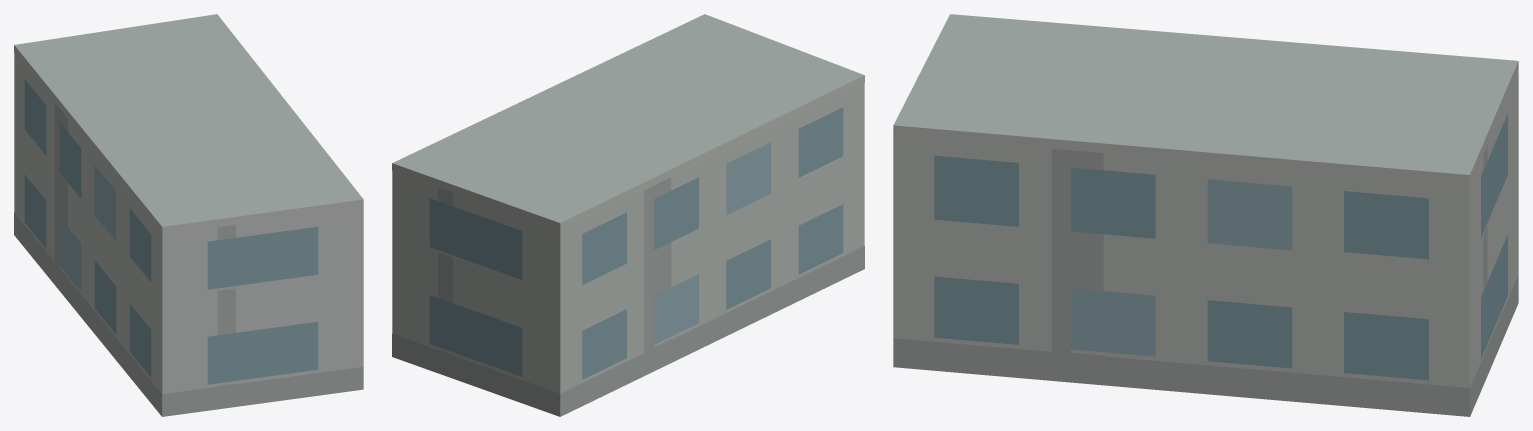
Rendered from survey-upis-32838685.glb.
3 views of the same model, side by side, from view 1: azimuth 30°, elevation 25°; view 2: azimuth 150°, elevation 25°; view 3: azimuth 270°, elevation 25° (orthographic). The views are drawn at different scales.
Visible parts, largest first — view 1: survey-upis-32838685.tmp; view 2: survey-upis-32838685.tmp; view 3: survey-upis-32838685.tmp.
Boxes of the visible parts, left/top/right/bottom form: survey-upis-32838685.tmp: left=14, top=14, right=363, bottom=416; survey-upis-32838685.tmp: left=392, top=14, right=864, bottom=416; survey-upis-32838685.tmp: left=893, top=14, right=1518, bottom=416.
Bounding box in the file's own units: 8.72 × 6.1 × 14.31.
